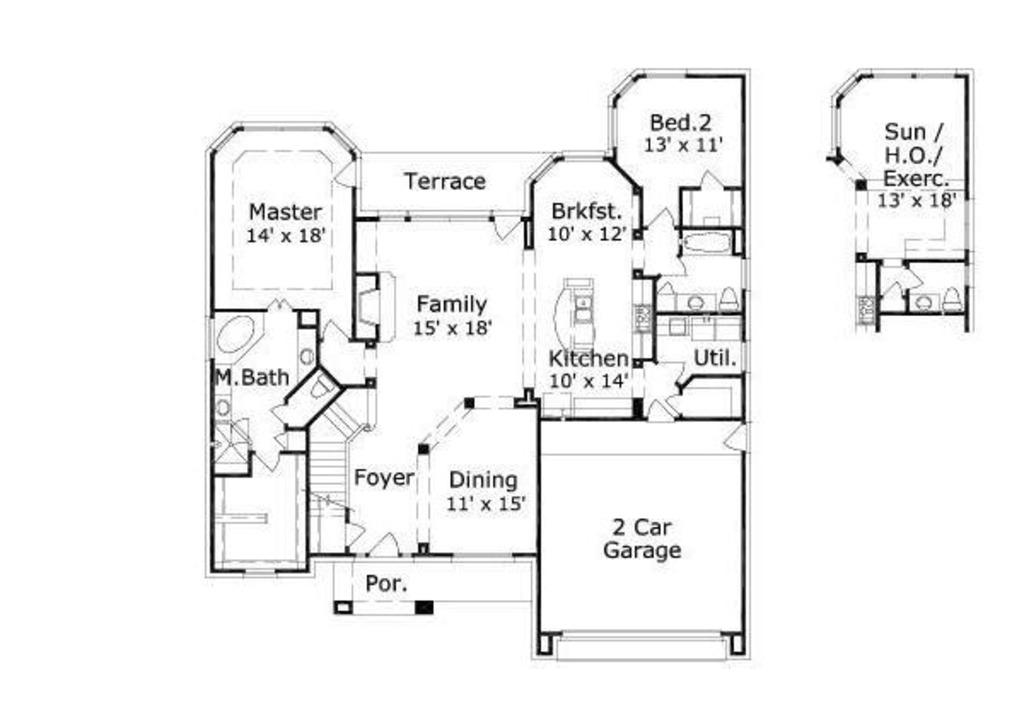door: (367, 526, 406, 556), (491, 211, 524, 246), (719, 420, 751, 455), (315, 314, 351, 342), (226, 405, 256, 438), (643, 397, 678, 425), (334, 157, 362, 190), (663, 389, 696, 416), (658, 253, 692, 277), (649, 205, 679, 230), (696, 170, 735, 189), (257, 449, 284, 476), (340, 518, 365, 547), (901, 264, 926, 293), (876, 276, 907, 299), (660, 355, 684, 383), (263, 298, 299, 312)
kitchen_bar: (557, 273, 608, 375)
large_sink: (299, 370, 342, 400), (938, 277, 962, 318), (716, 280, 740, 310)
small_sink: (911, 290, 951, 324), (216, 396, 233, 427)
stairs: (308, 382, 439, 558)
tub: (213, 316, 279, 365)
window: (519, 141, 613, 184), (612, 64, 692, 94), (606, 69, 624, 156), (235, 564, 282, 584), (452, 550, 519, 564)
